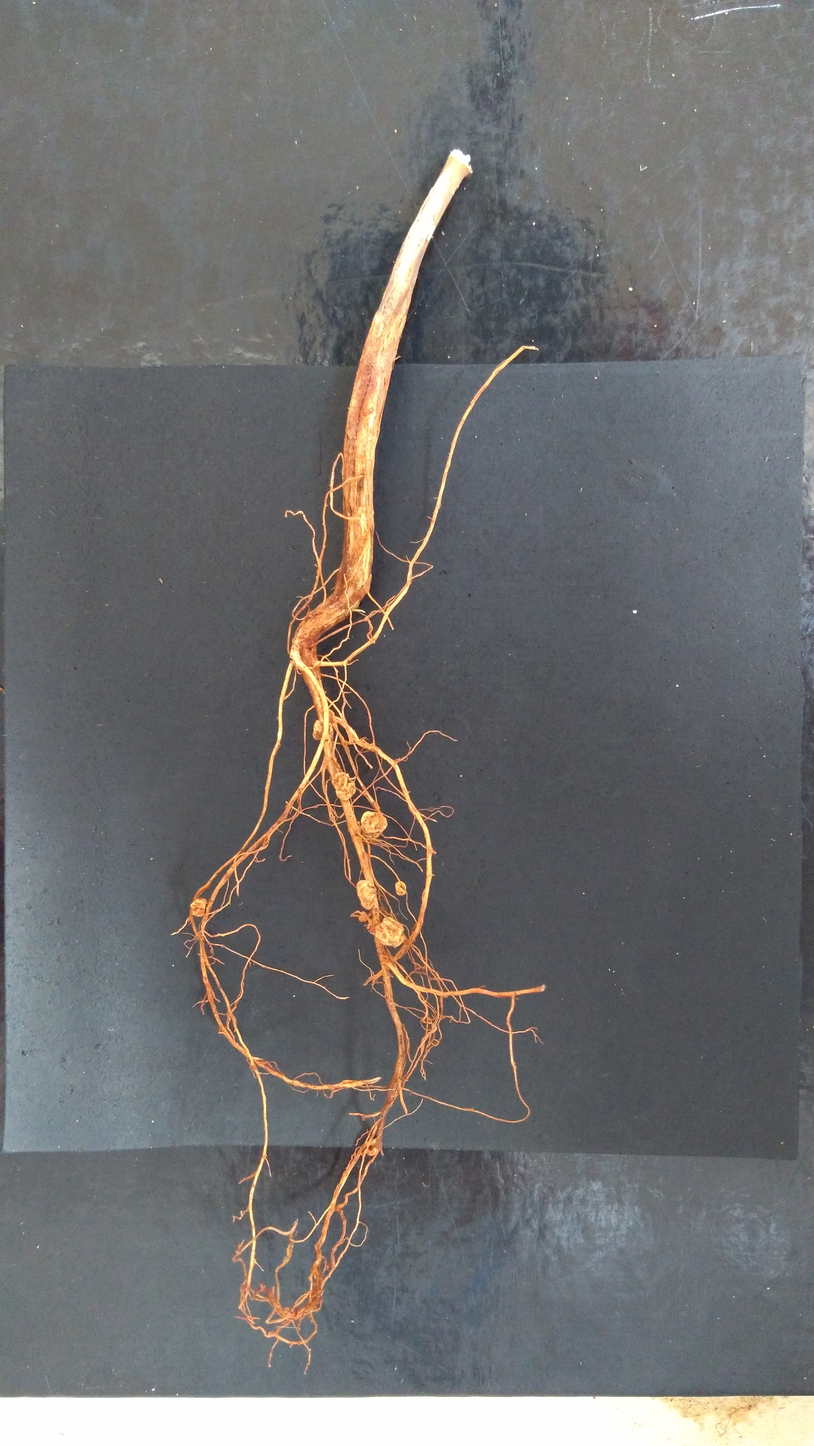nodule: (374, 915, 405, 949), (360, 809, 388, 841), (331, 770, 358, 801), (356, 878, 376, 912), (189, 897, 208, 919), (311, 719, 323, 741), (394, 880, 408, 897), (327, 708, 336, 724), (365, 1147, 377, 1157)
